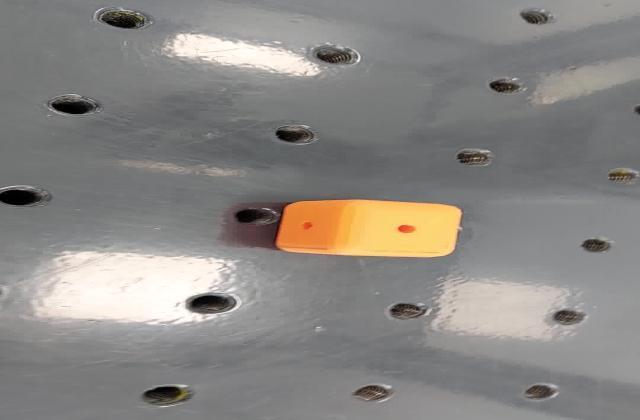cube: (266, 198, 466, 259)
